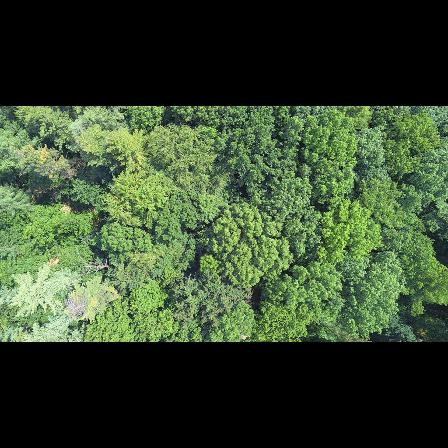Dead: (73, 251, 116, 275)
